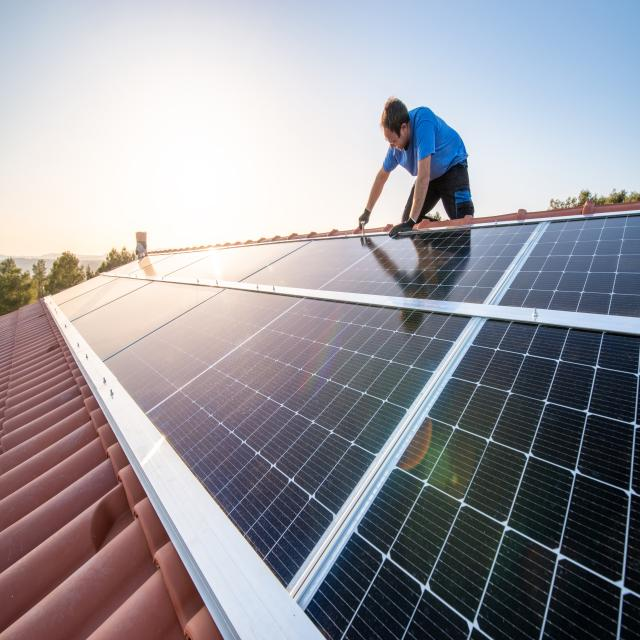clean-solar-panel: (590, 369, 636, 421)
